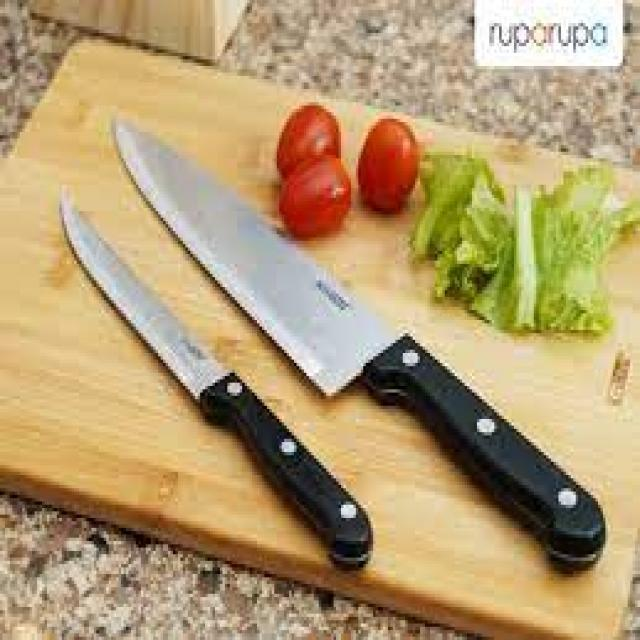weapon: (65, 64, 611, 606)
